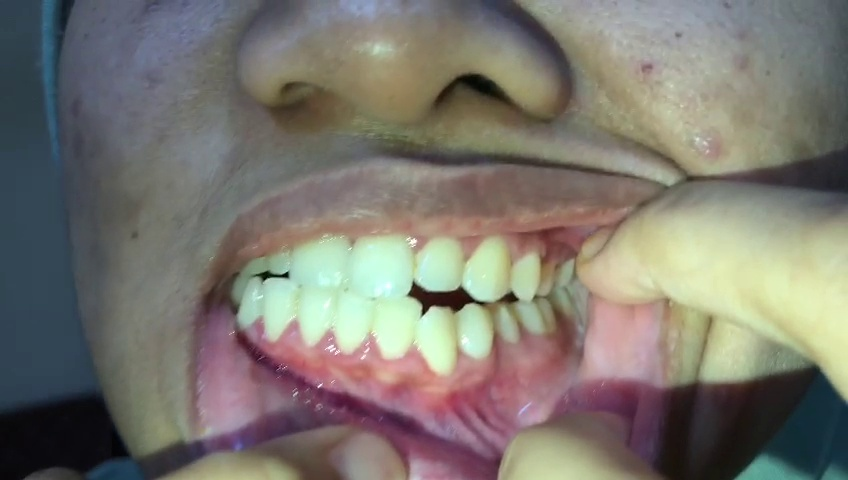1st Molar: (515, 299, 545, 338), (557, 254, 575, 294)
1st Premolar: (458, 302, 493, 365), (510, 245, 542, 302)
2nd Molar: (538, 299, 555, 331)
2nd Premolar: (493, 298, 518, 348), (536, 256, 557, 297)
3rd Molar: (552, 287, 573, 320)
Canine: (466, 235, 510, 301), (416, 305, 456, 377)
Central Incisor: (348, 225, 413, 299), (291, 228, 347, 292), (336, 290, 372, 357), (298, 284, 335, 348)
Lateral Incisor: (373, 293, 420, 360), (413, 237, 466, 293), (262, 278, 298, 342), (238, 276, 266, 328)
